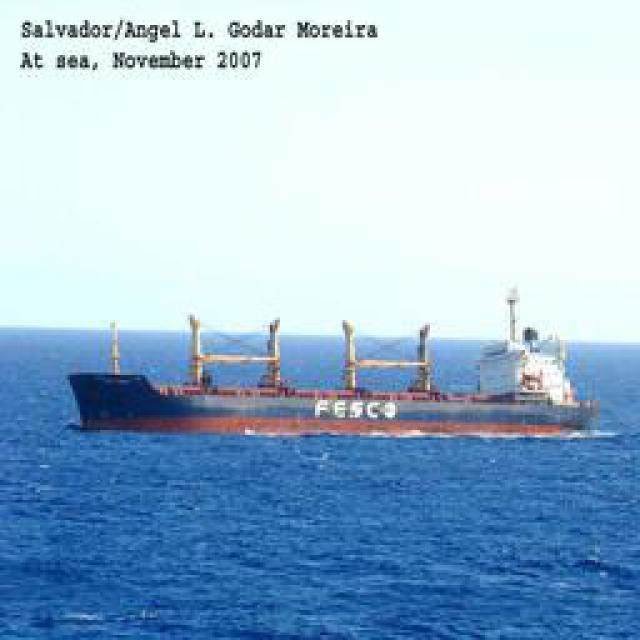Ship: (80, 315, 603, 443)
